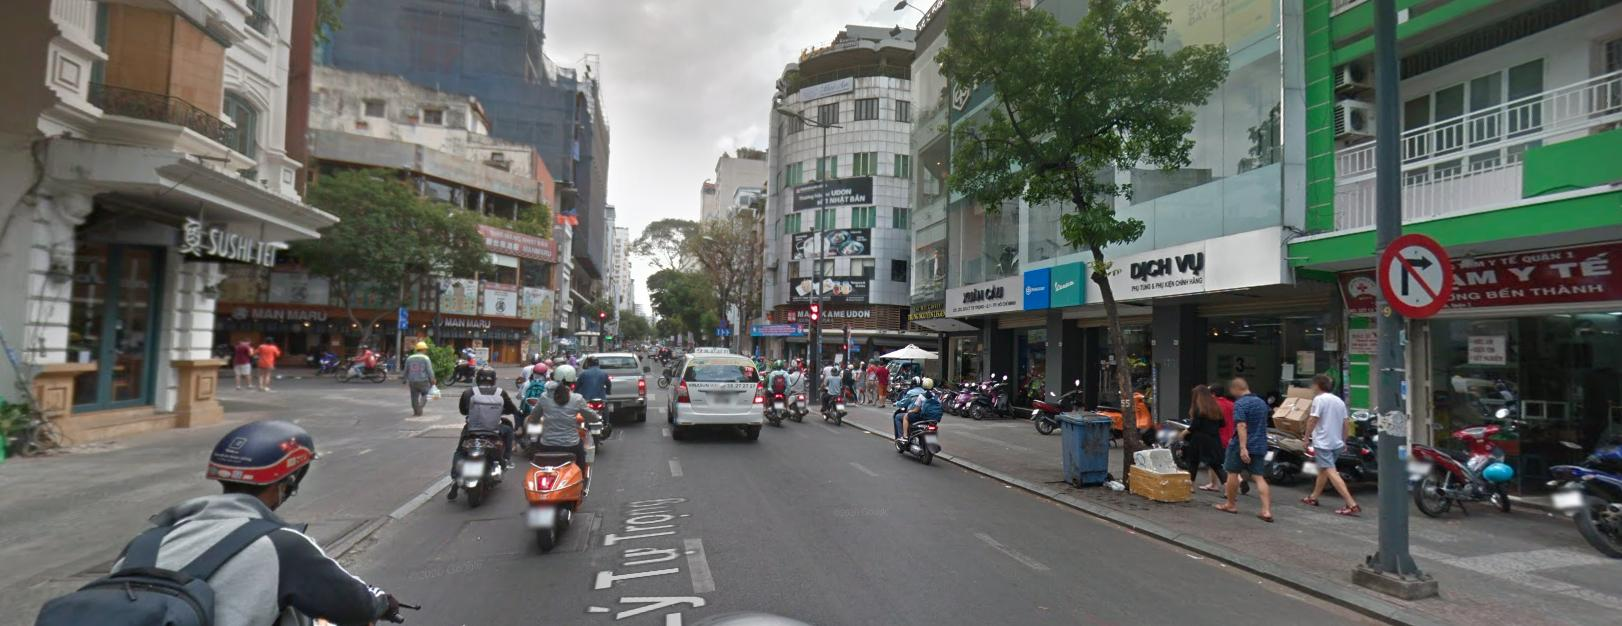Cam dung va do: (718, 317, 727, 325)
Cam re: (1370, 225, 1458, 316)
